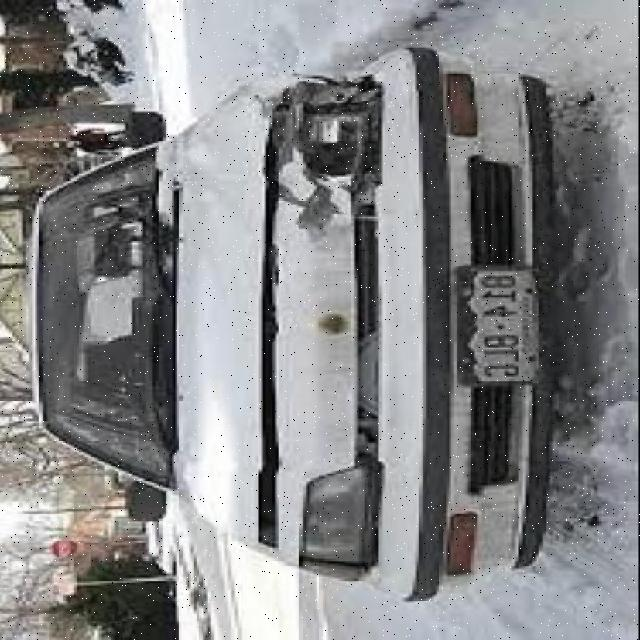damage: (231, 65, 397, 262)
